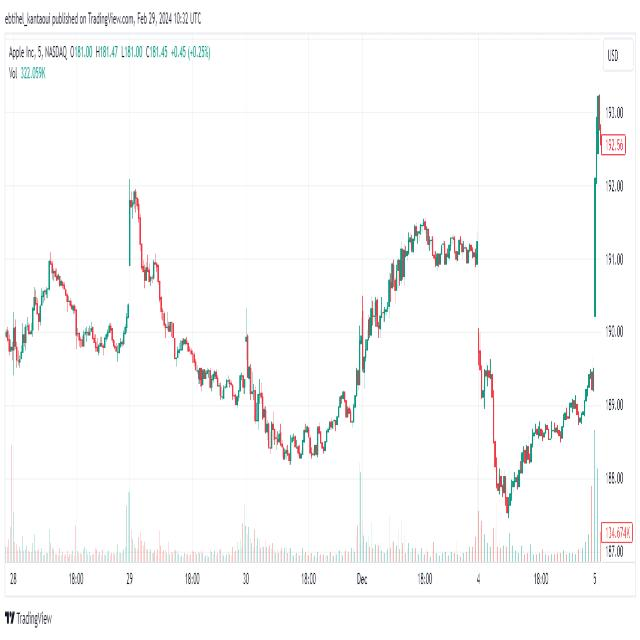Rounding-Bottom: (130, 170, 432, 480)
